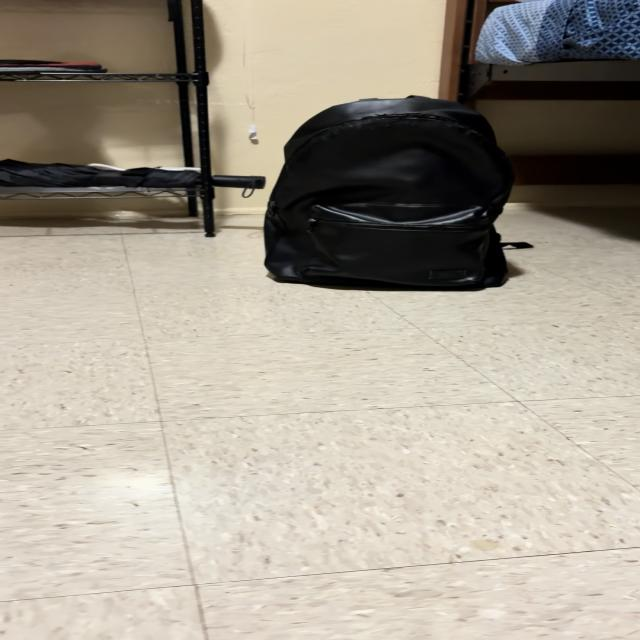backpack: (265, 97, 513, 287)
